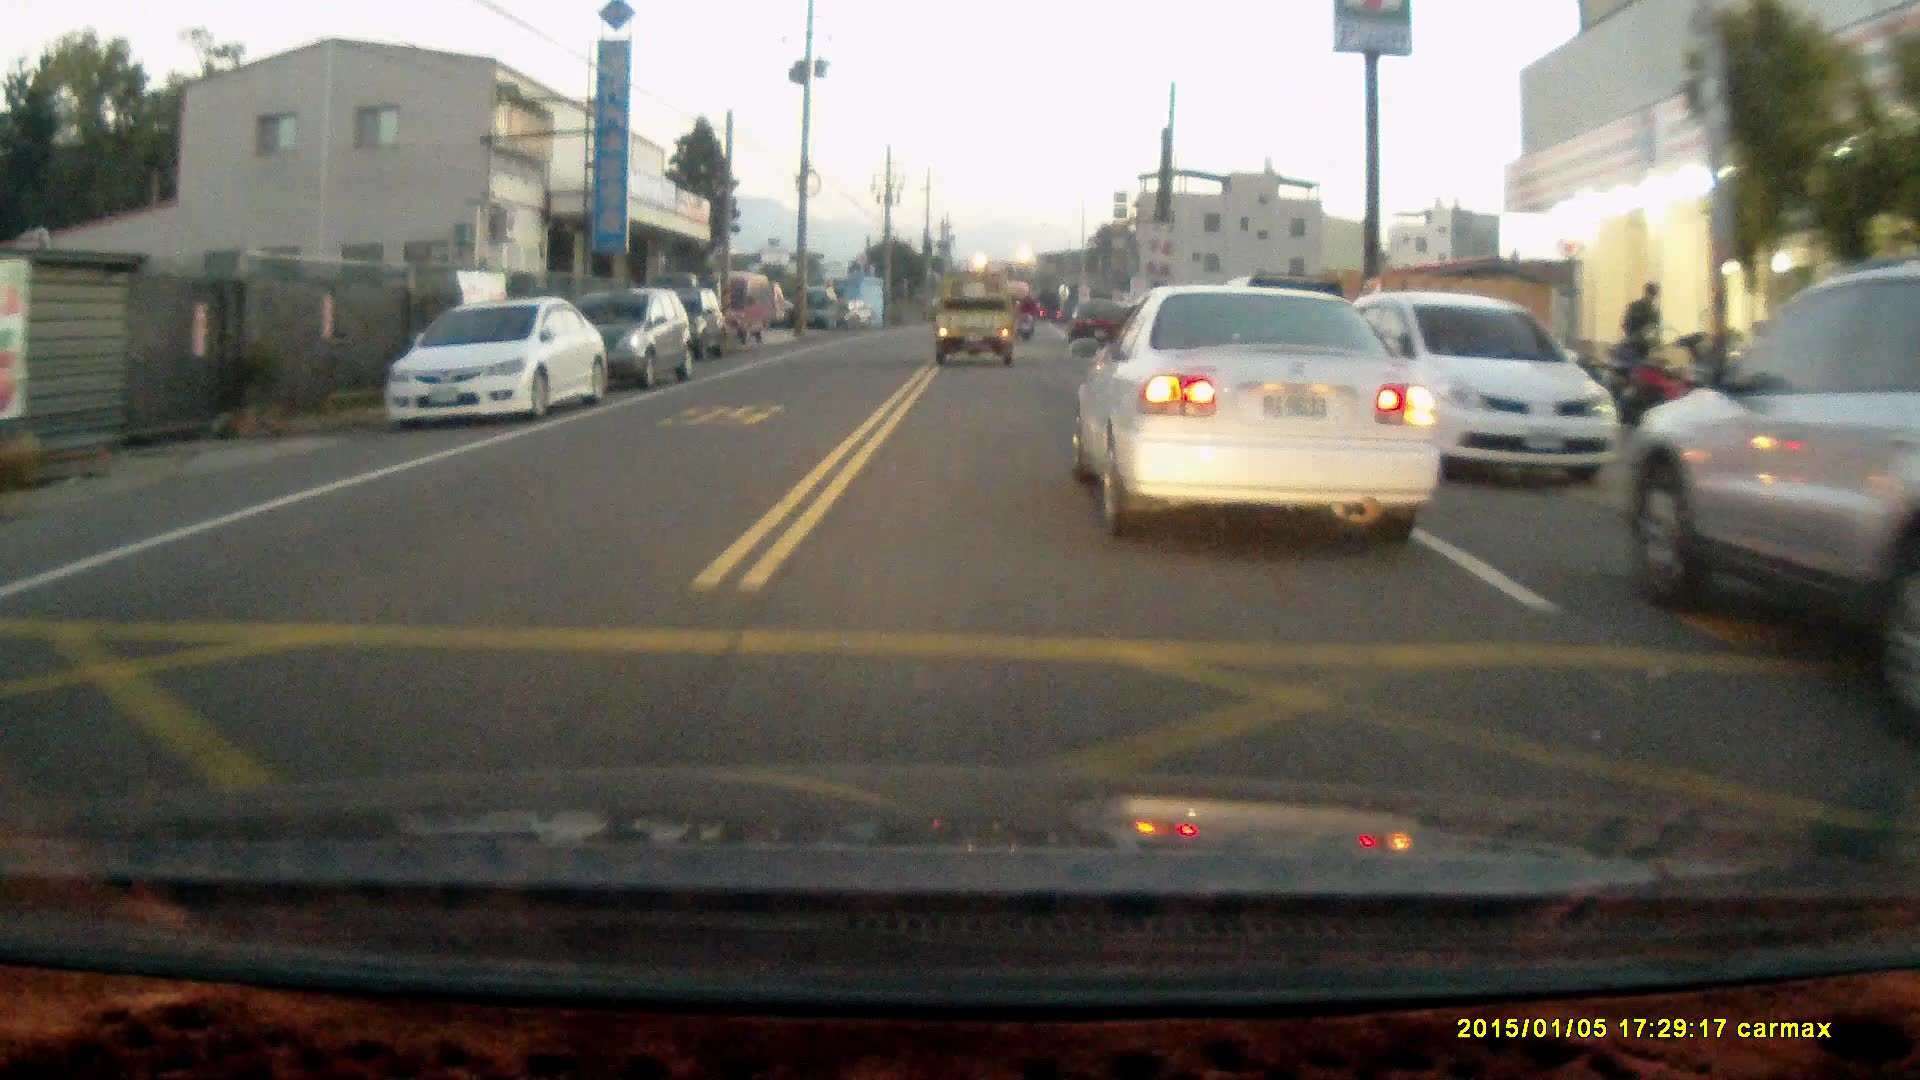pedestrian: (1617, 282, 1663, 391)
rider: (1011, 294, 1037, 342)
vehicle: (1627, 263, 1920, 744), (1080, 280, 1433, 538), (1335, 290, 1630, 489), (386, 290, 611, 427), (551, 286, 698, 395), (625, 280, 732, 363), (934, 272, 1022, 370), (711, 270, 780, 346), (1065, 296, 1129, 342)
